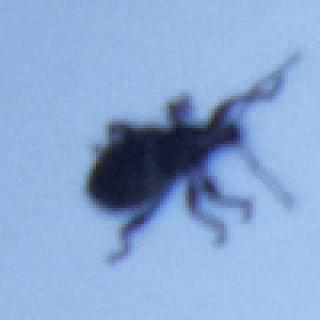bvw: (85, 56, 306, 262)
